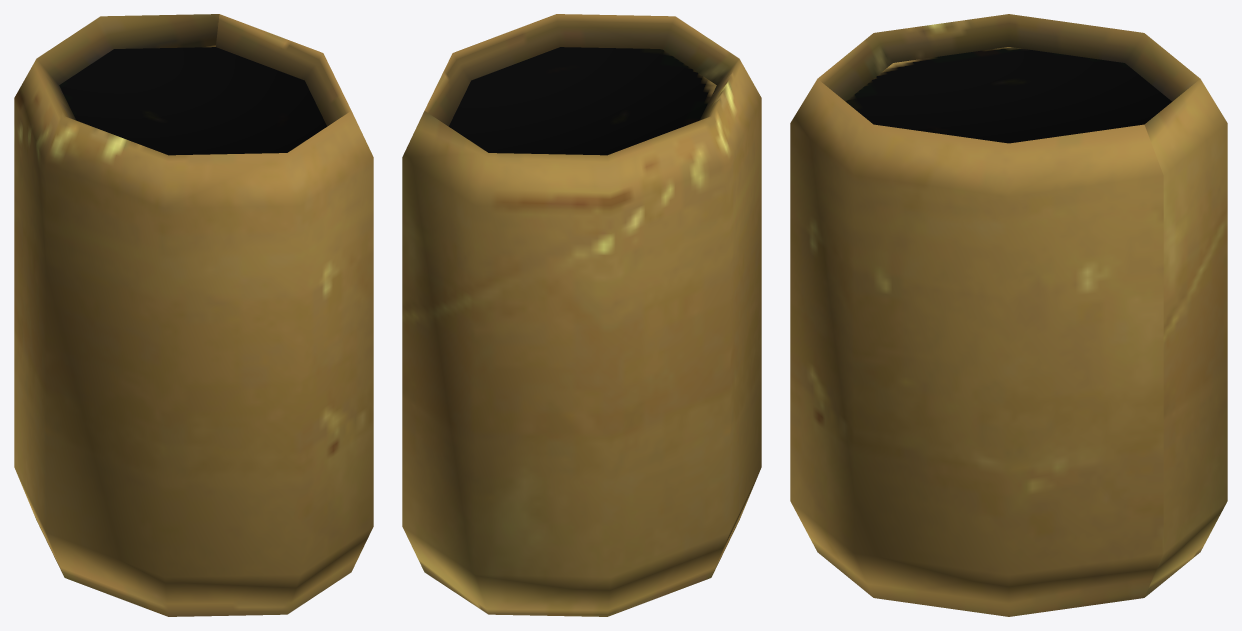
Rendered from 03_02_tape_blockoff_attachknot.dae.
3 renders of one model, left to right at view 1: azimuth 30°, elevation 25°; view 2: azimuth 150°, elevation 25°; view 3: azimuth 270°, elevation 25°, orthographic. The views are drawn at different scales.
Parts seen in each view (by area): view 1: pCylinder1; view 2: pCylinder1; view 3: pCylinder1.
Boxes of the visible parts, left/top/right/bottom form: pCylinder1: left=14, top=14, right=373, bottom=616; pCylinder1: left=402, top=14, right=761, bottom=616; pCylinder1: left=790, top=14, right=1227, bottom=616.
Size of the model in its own units: 0.1157 by 0.1727 by 0.1446.
